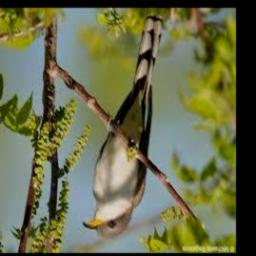Cuckoo: (82, 14, 165, 236)
